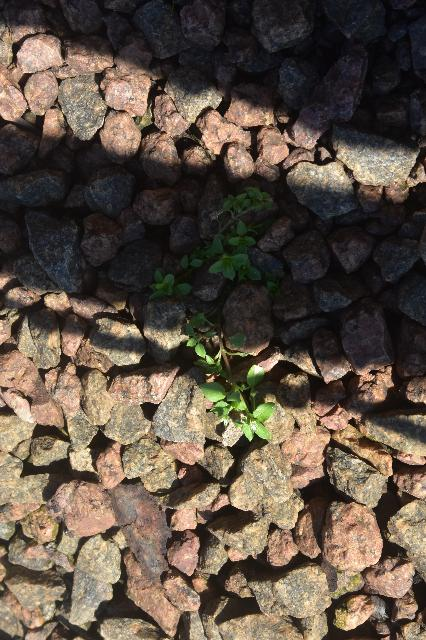MalezaMontesDelPlata: (130, 172, 293, 448)
